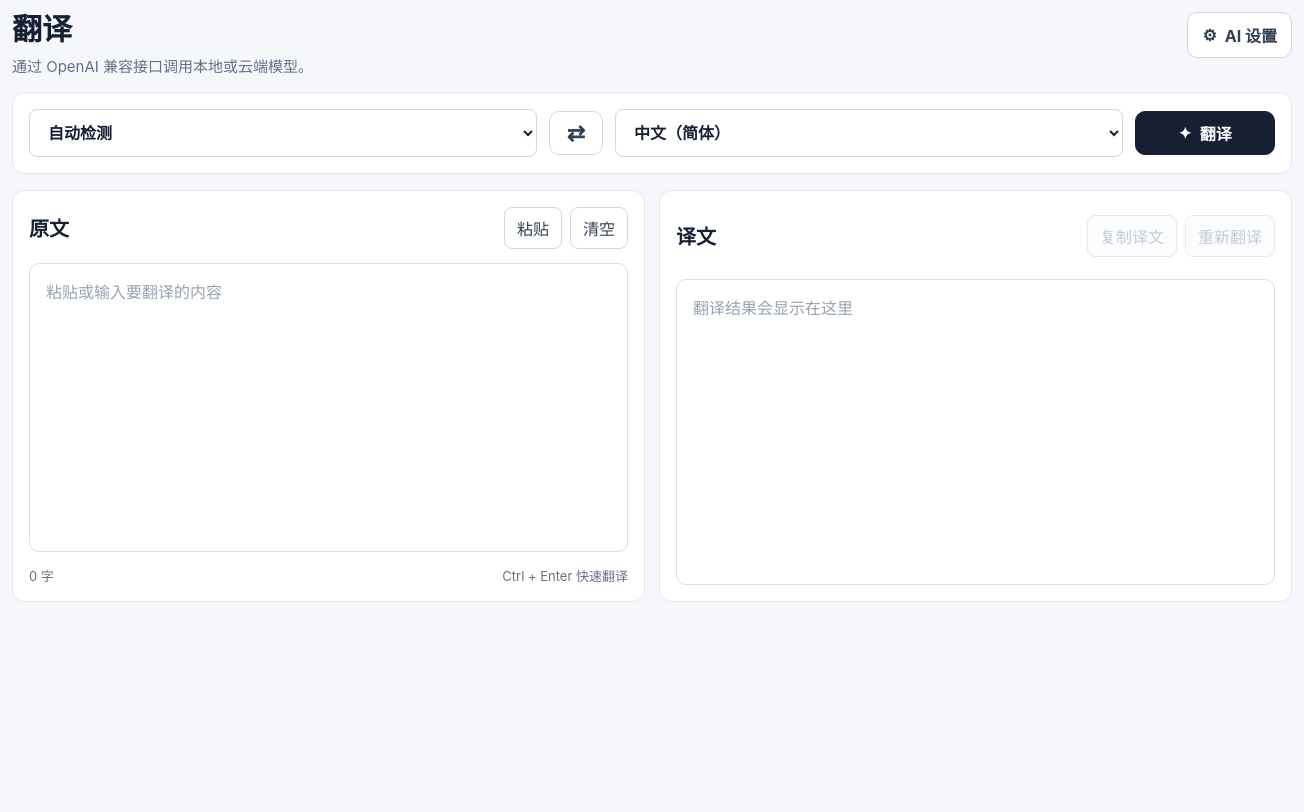
Test: ignores an in-flight result after changing 目标语言
Type "hello" into the text box labelled "原文" at (328, 407), box [29, 262, 628, 552]
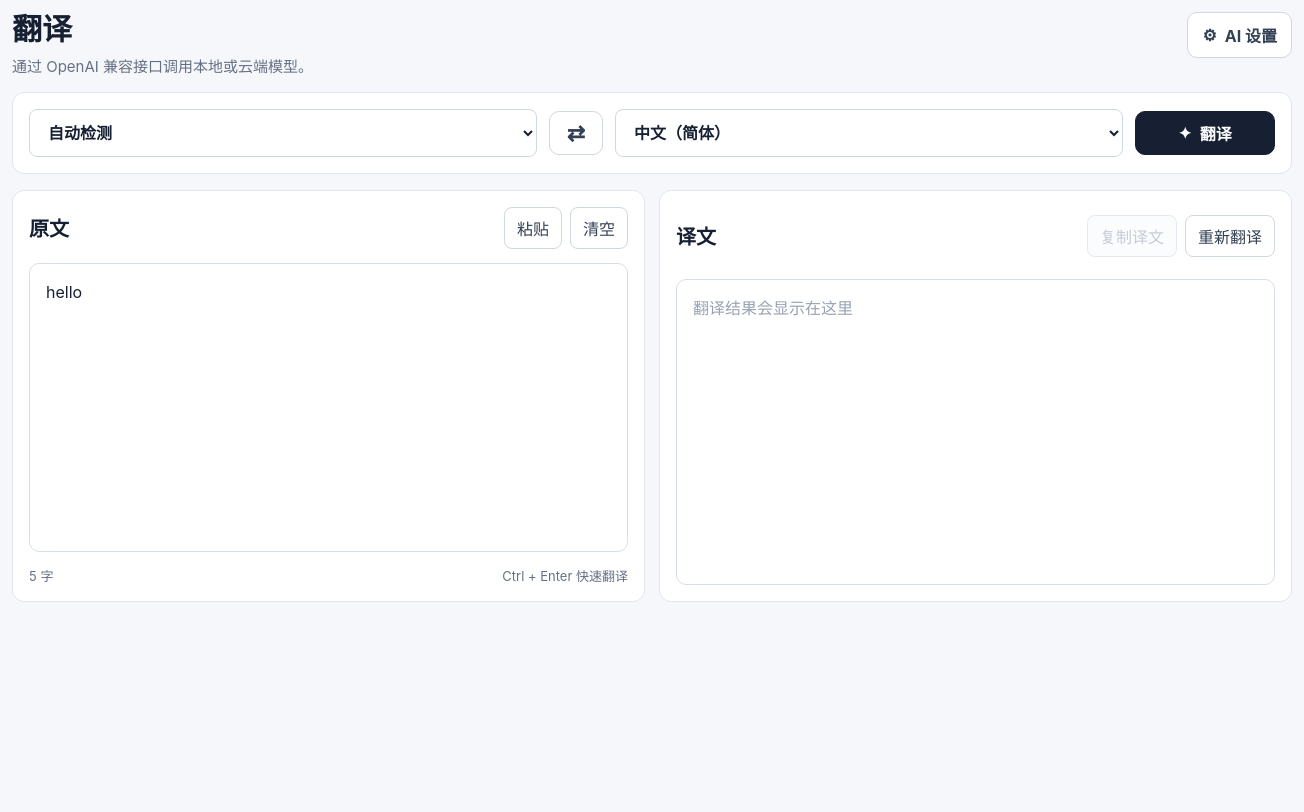
Click the button "✦ 翻译" at (1205, 132), box [1135, 110, 1275, 154]
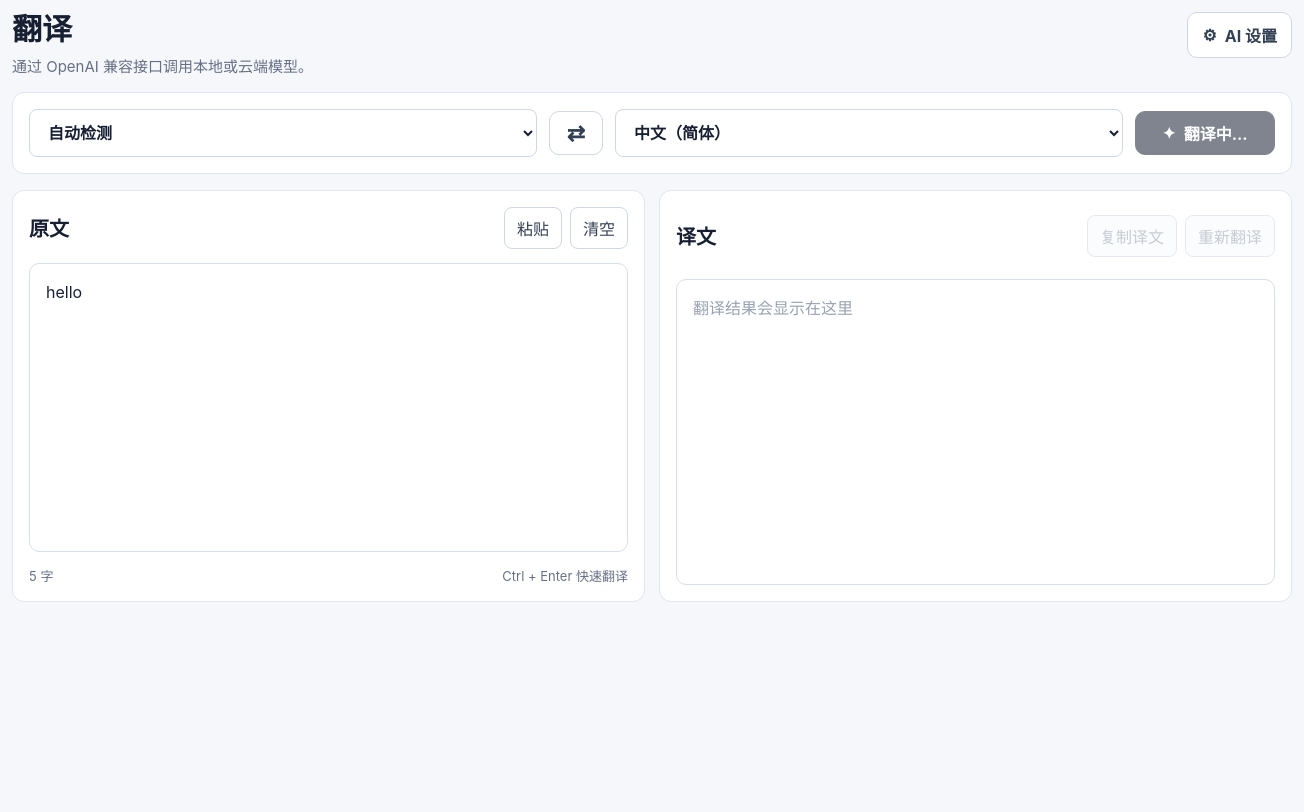
Select "韩语" in the dropdown named "目标语言" at (869, 132), box [615, 108, 1123, 156]
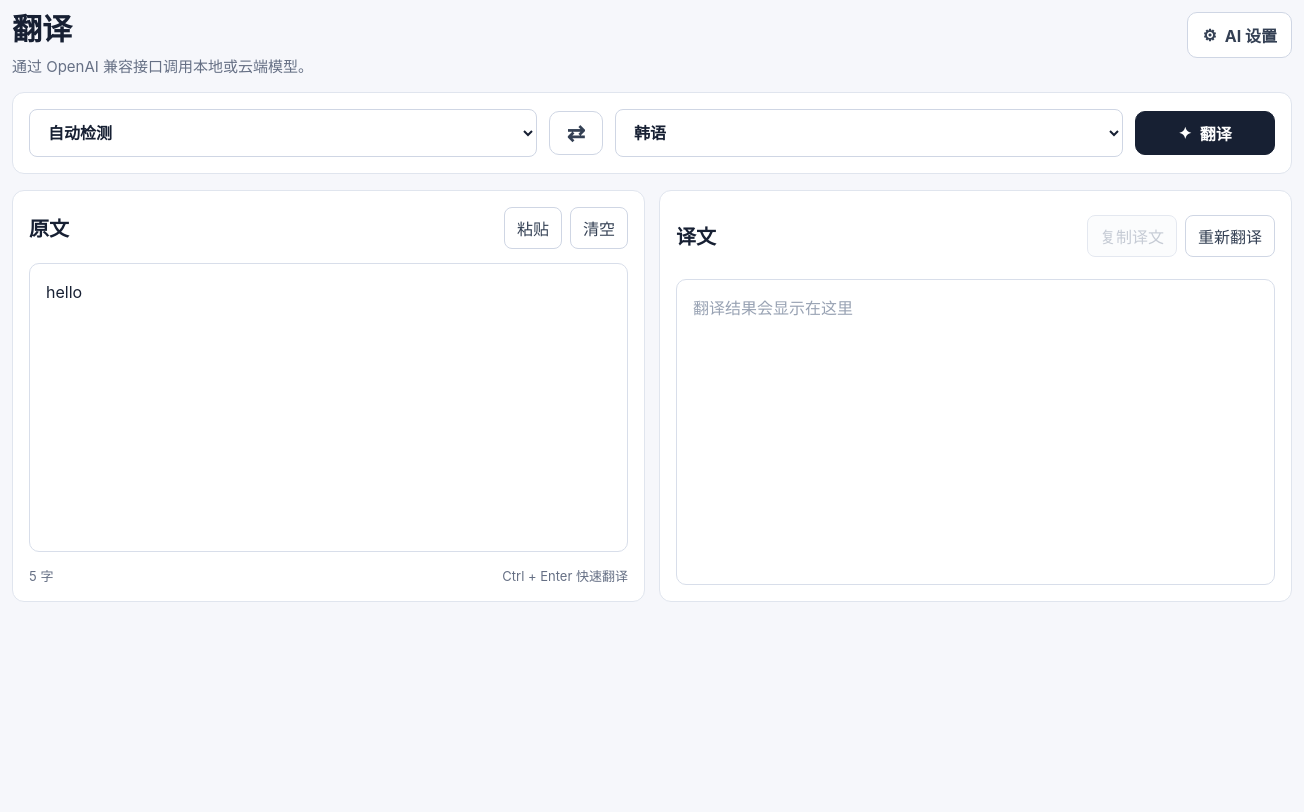
Check: the text box labelled "译文" is empty, box [676, 279, 1275, 585]
Click the button "✦ 翻译" at (1205, 132), box [1135, 110, 1275, 154]
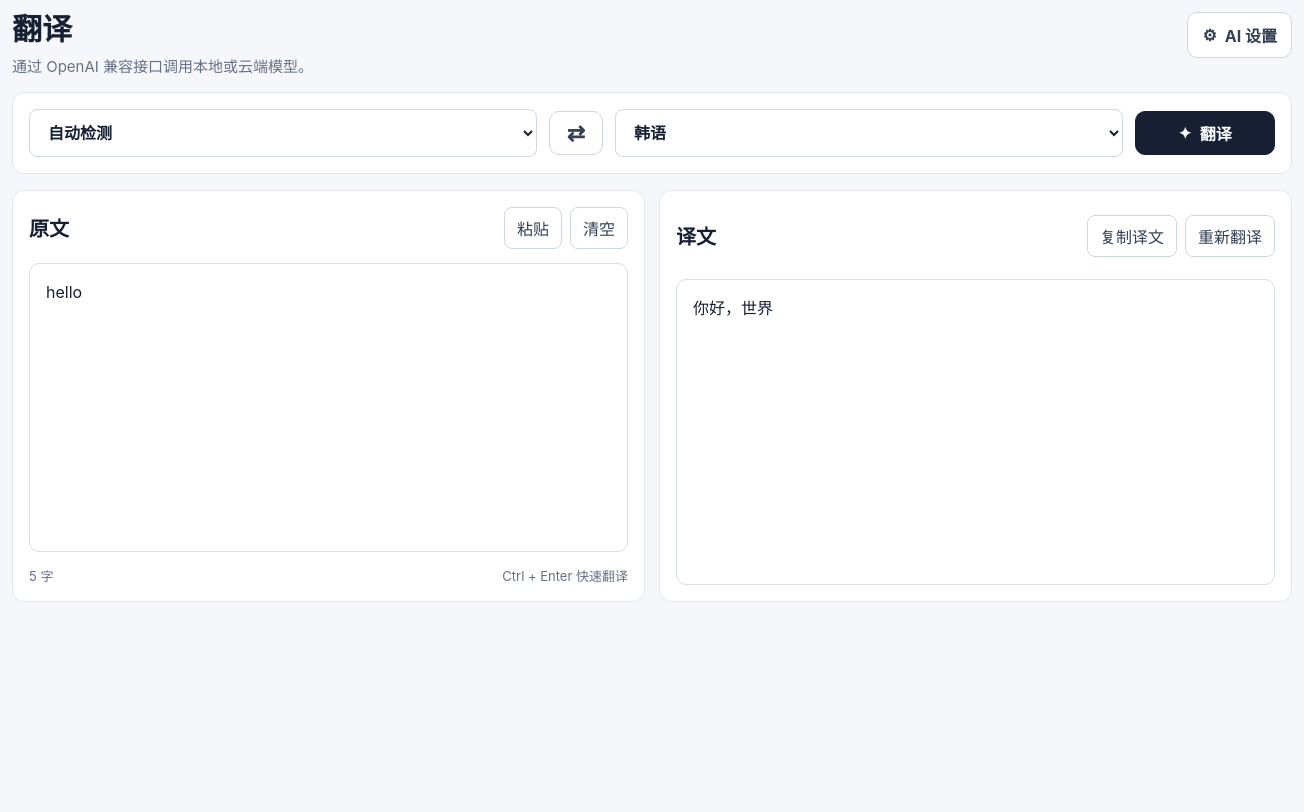
Check: the text box showing "你好，世界" is shown, box [676, 279, 1275, 585]
